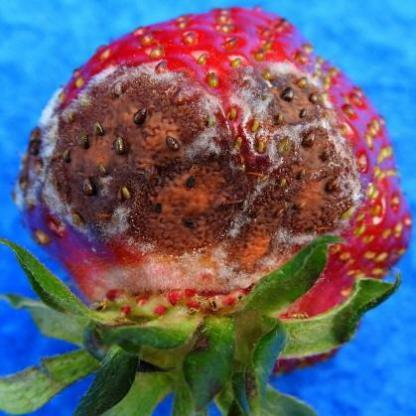Strawberry_Anthracnose_Fruit_Rot: (11, 54, 373, 315)
